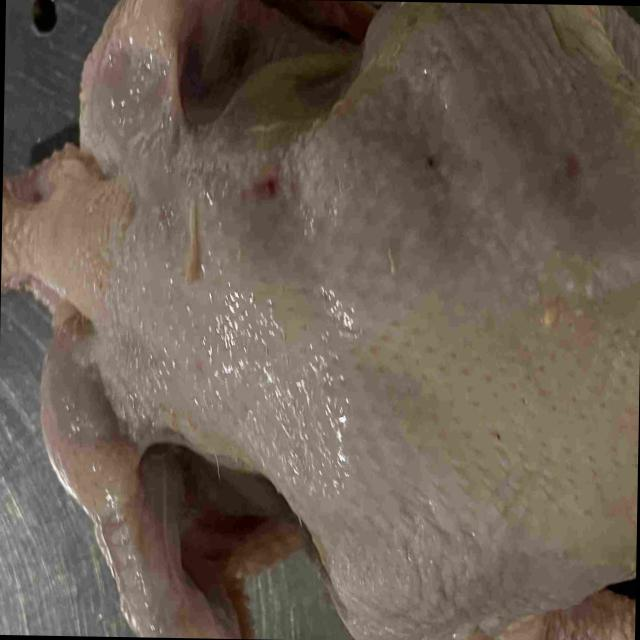back: (120, 67, 640, 513)
leg: (314, 521, 636, 640), (427, 2, 640, 126)
neck: (0, 149, 113, 319)
wing: (33, 341, 301, 639), (78, 0, 243, 142)
